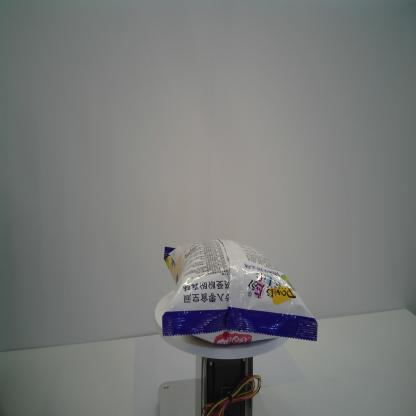Puffed Food: (161, 238, 319, 346)
